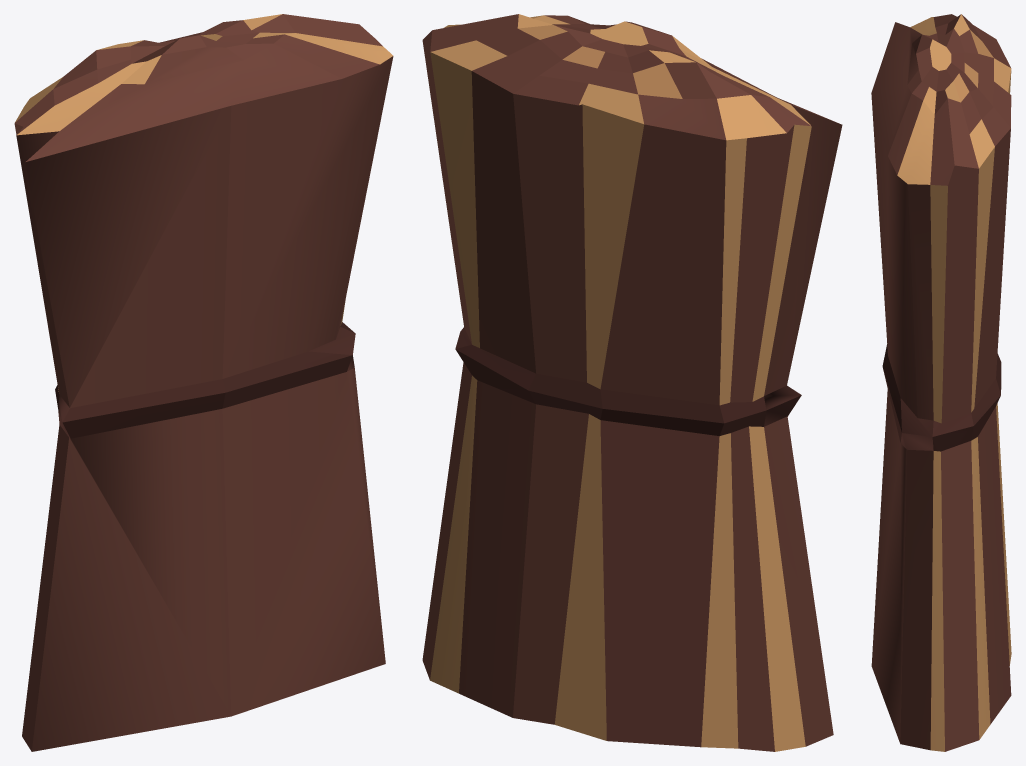
The model's file is icon_hay.fbx.
3 renders of one model, left to right at view 1: azimuth 30°, elevation 25°; view 2: azimuth 150°, elevation 25°; view 3: azimuth 270°, elevation 25°, orthographic. The views are drawn at different scales.
Parts seen in each view (by area): view 1: icon_hay; view 2: icon_hay; view 3: icon_hay.
Boxes of the visible parts, x1,y1,x2,y2 form: icon_hay: (14,14,393,751); icon_hay: (422,14,842,751); icon_hay: (871,14,1011,751).
Size of the model in its own units: 25.31 by 41.92 by 8.61.
